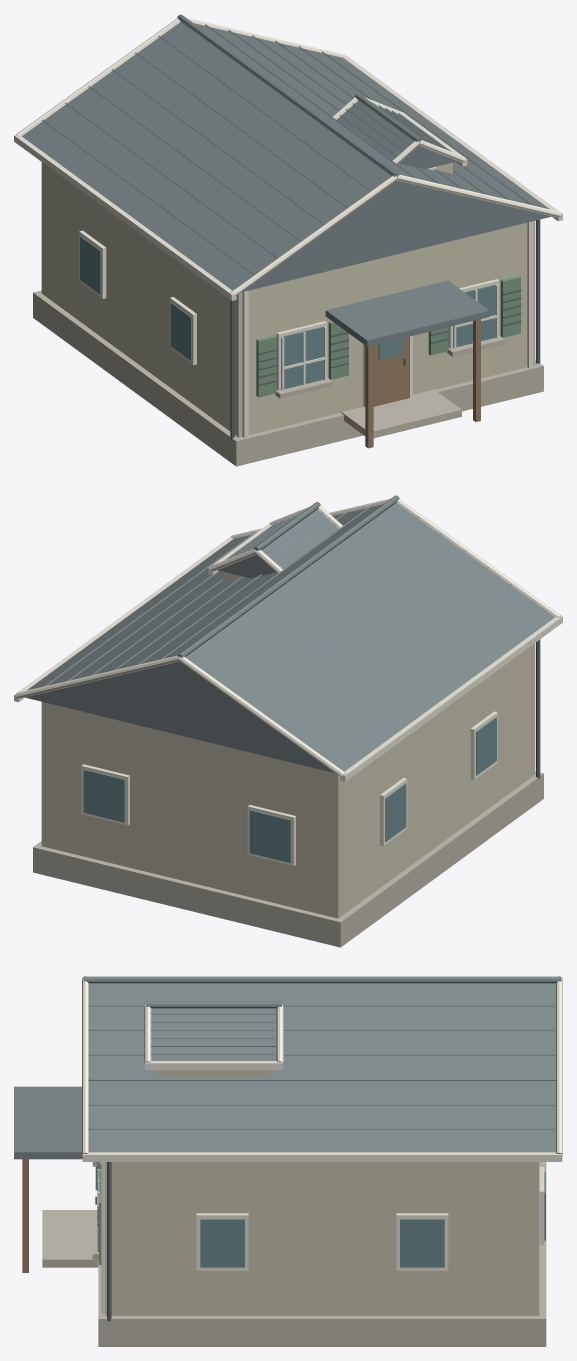
The picture shows the model from 3 angles, top to bottom: view 1: azimuth 30°, elevation 25°; view 2: azimuth 150°, elevation 25°; view 3: azimuth 270°, elevation 25°; orthographic projection. The views are drawn at different scales.
Size of the model in its own units: 8.93 by 6.77 by 11.64.
